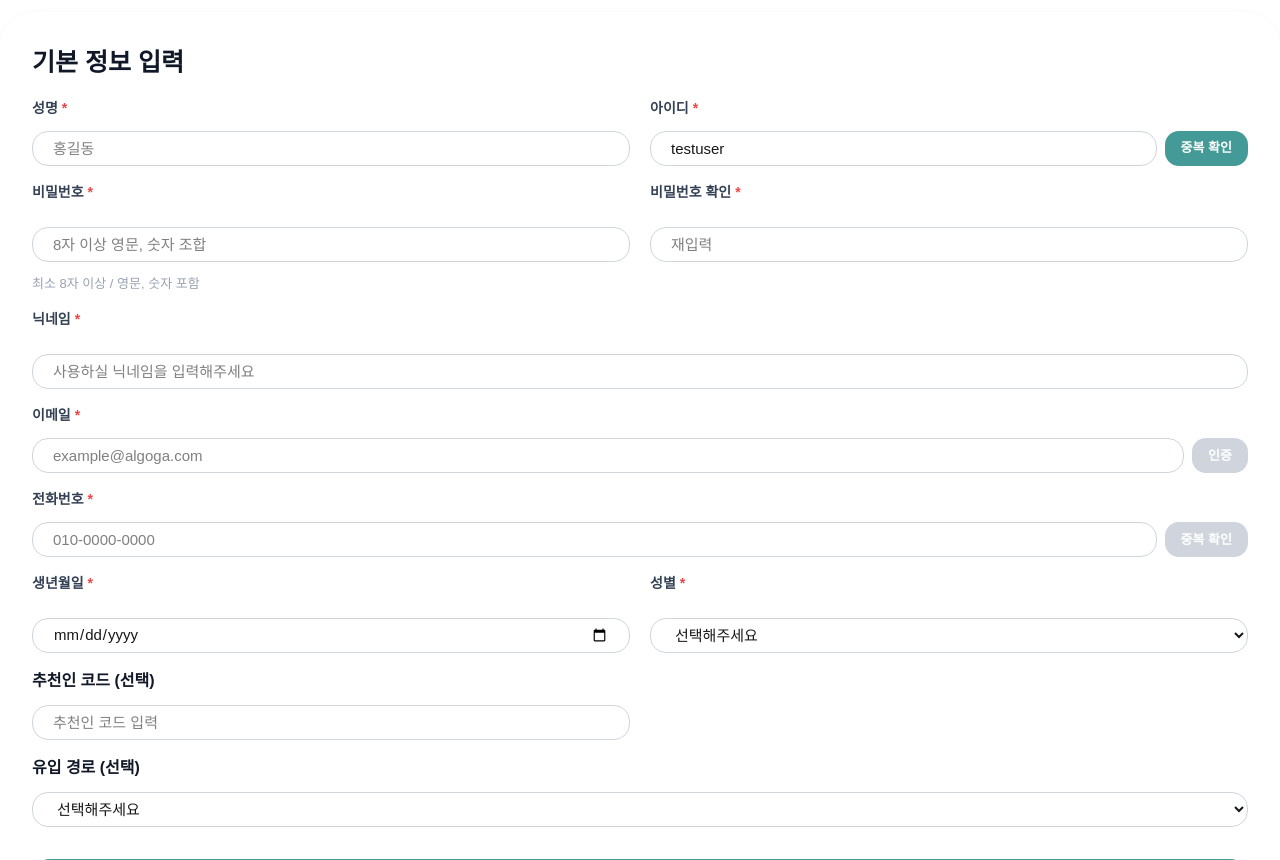
RegisterInfoForm 컴포넌트 테스트 › 아이디 중복 확인에 성공하면 사용 가능 메시지가 보인다
This screenshot has width=1280, height=860.
Click the button with aria-label "중복 확인: 사용자 이름 검사". click: (1206, 148)
box: [1164,130,1248,166]
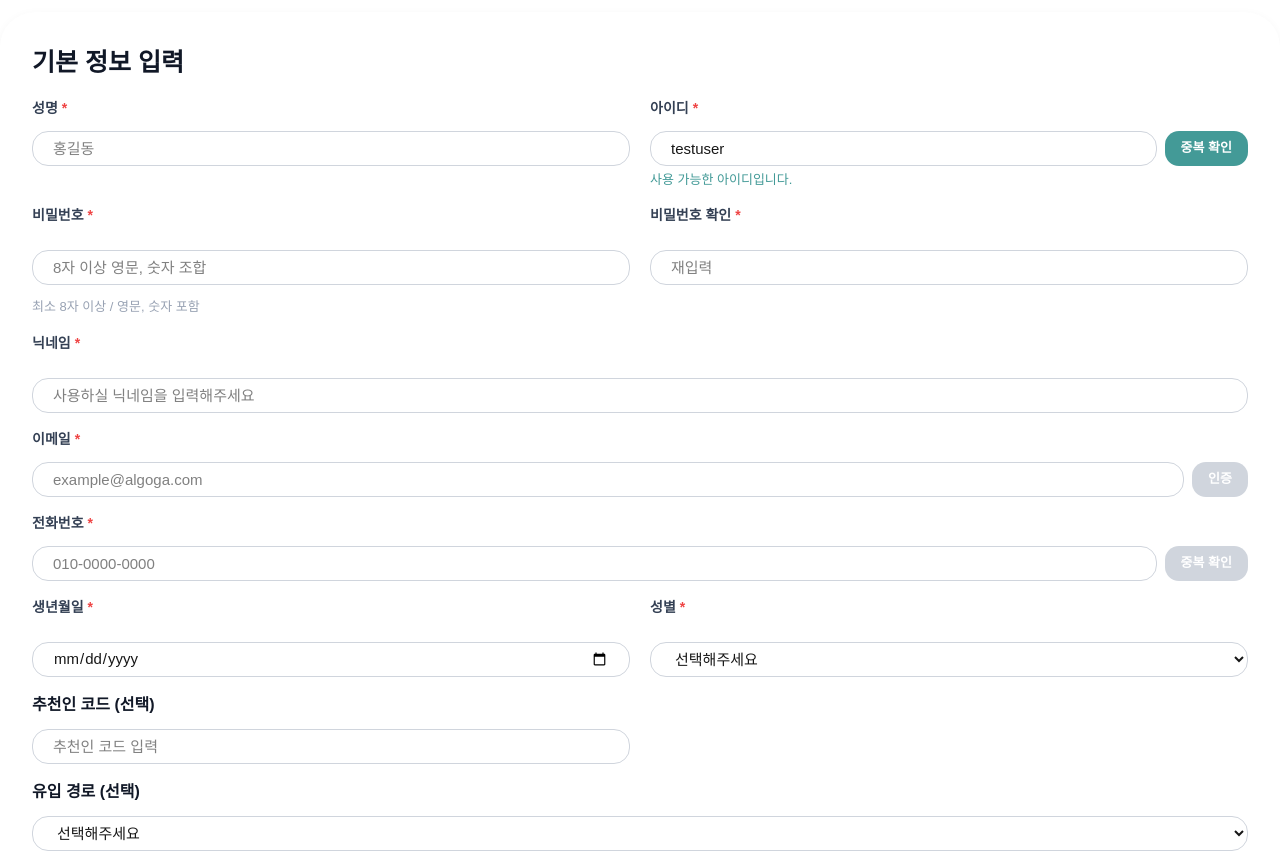
Expected: the text "사용 가능한 아이디입니다." is shown, [650,172,792,186]
